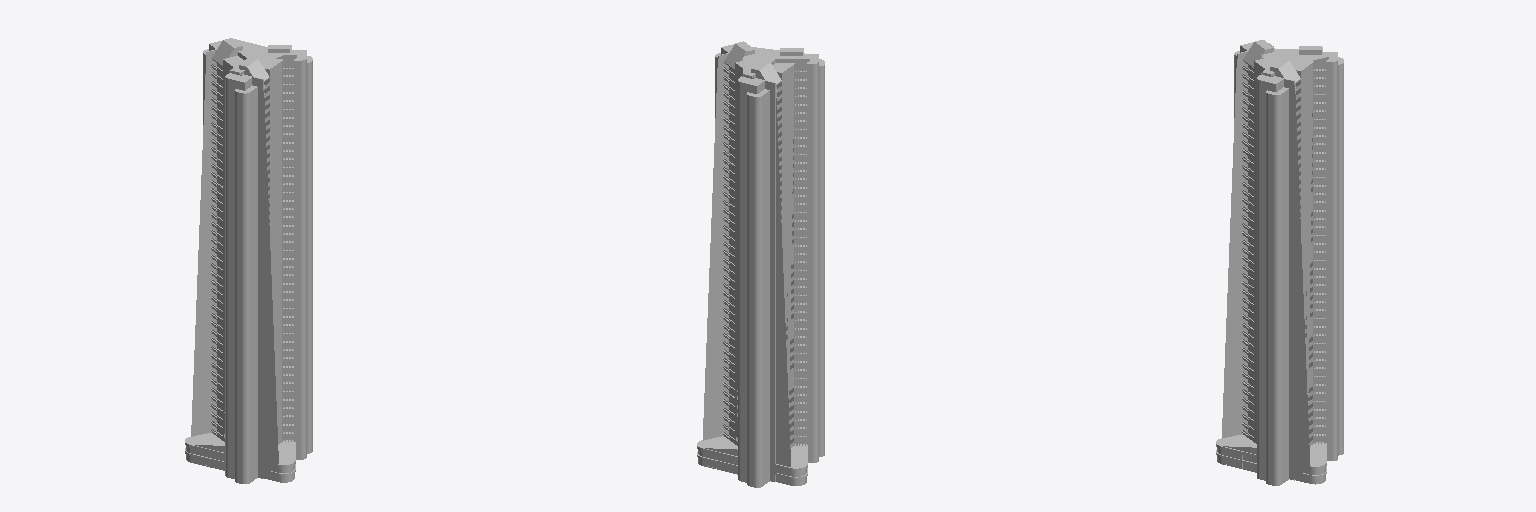
The model's file is build.obj.
The picture shows the model from 3 angles: view 1: azimuth 30°, elevation 25°; view 2: azimuth 150°, elevation 25°; view 3: azimuth 270°, elevation 25°; orthographic projection.
Visible parts, largest first — view 1: Mesh1_Model.001; view 2: Mesh1_Model.001; view 3: Mesh1_Model.001.
Part boxes in pixels (x1,y1,x2,y2): Mesh1_Model.001: (185, 38, 312, 483); Mesh1_Model.001: (697, 41, 824, 487); Mesh1_Model.001: (1216, 40, 1343, 485).
Size of the model in its own units: 205 by 737 by 210.